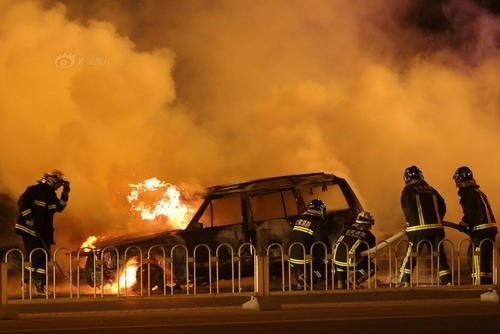fire: (125, 175, 193, 228), (109, 256, 140, 291), (79, 232, 101, 252)
